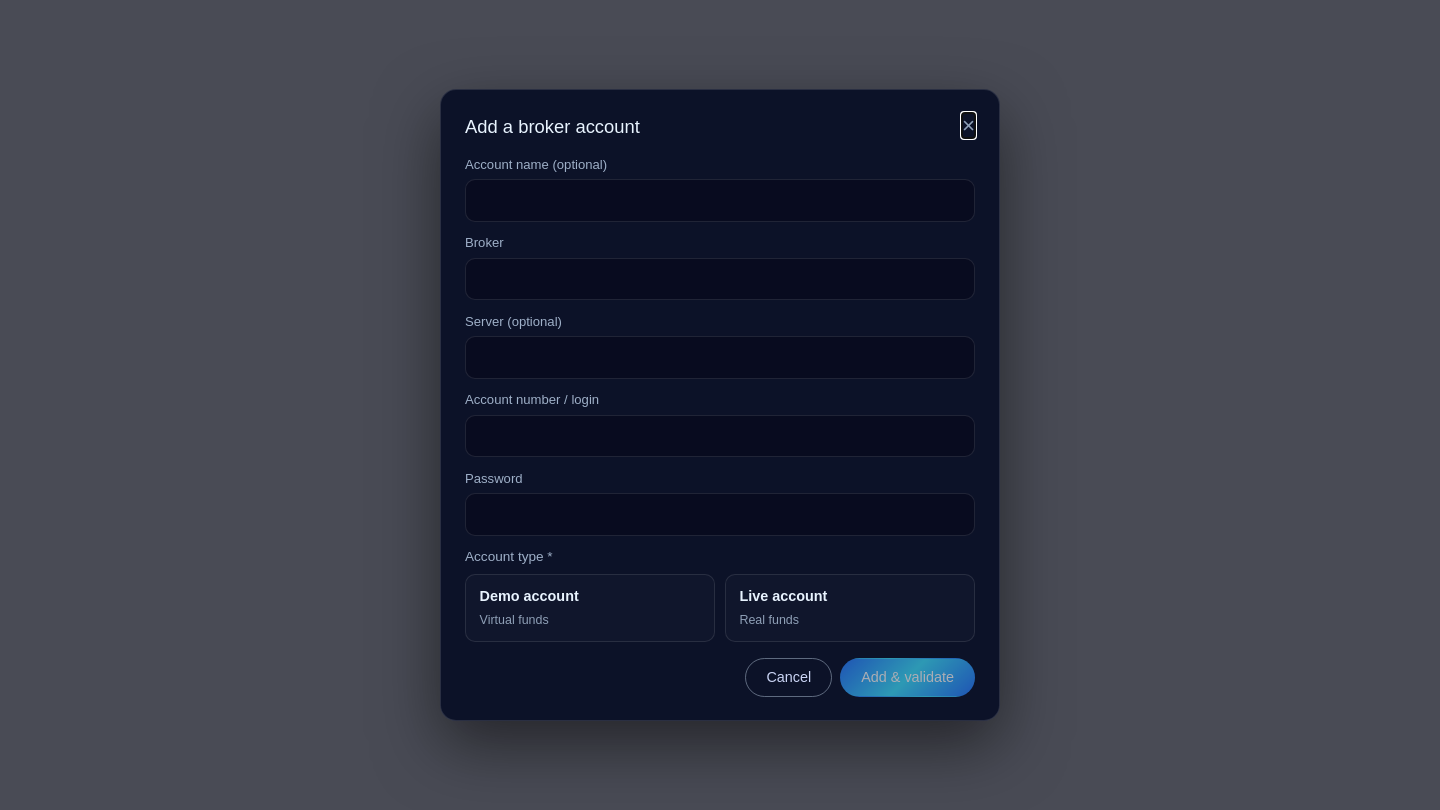
Test: BrokerAccountWizard — legacy (traditional) mode › creates the account then validates it, then shows the result
Type "IS6" into the field labelled "Broker" at (720, 279), box [465, 258, 975, 300]
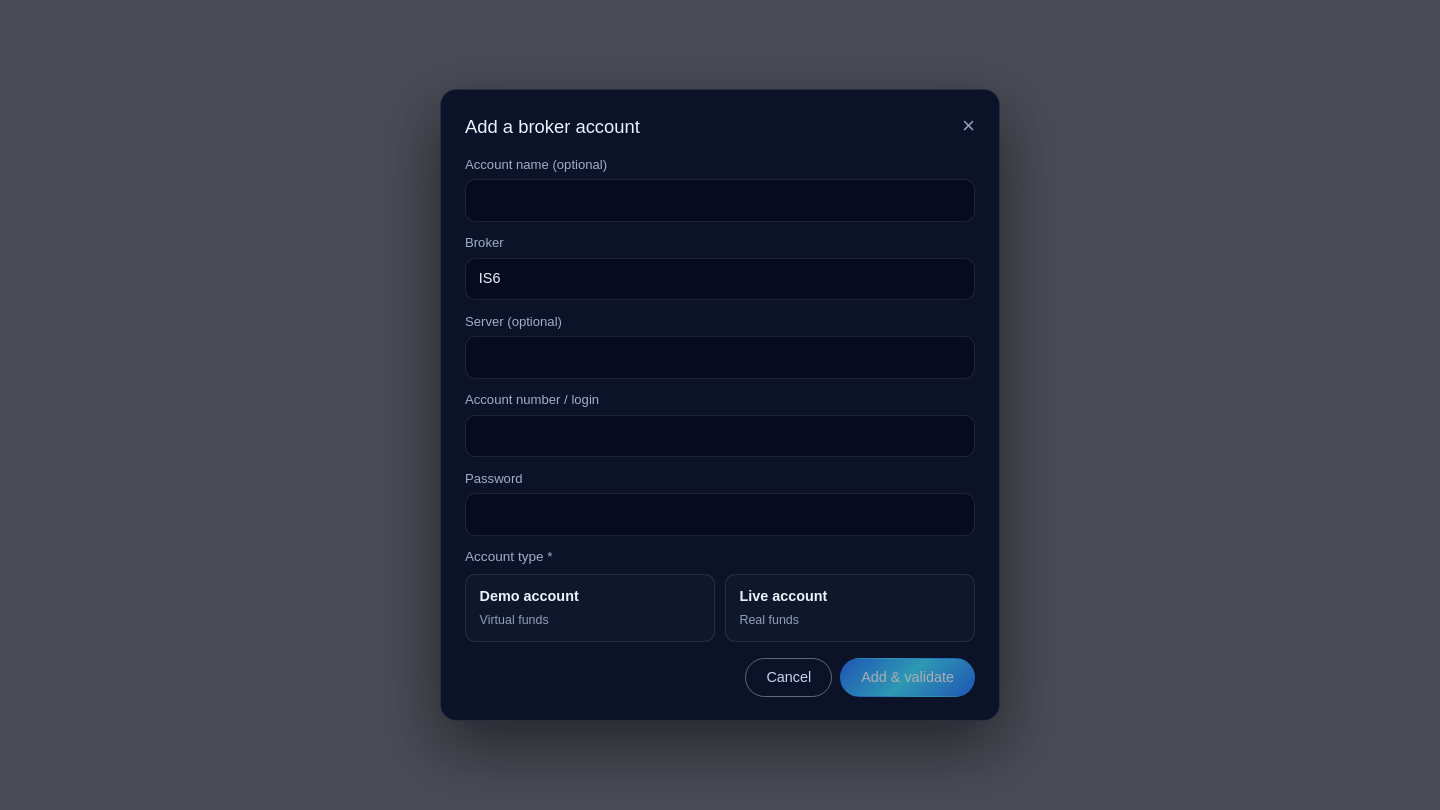
Type "1302575" into the field labelled "Account number / login" at (720, 436), box [465, 415, 975, 457]
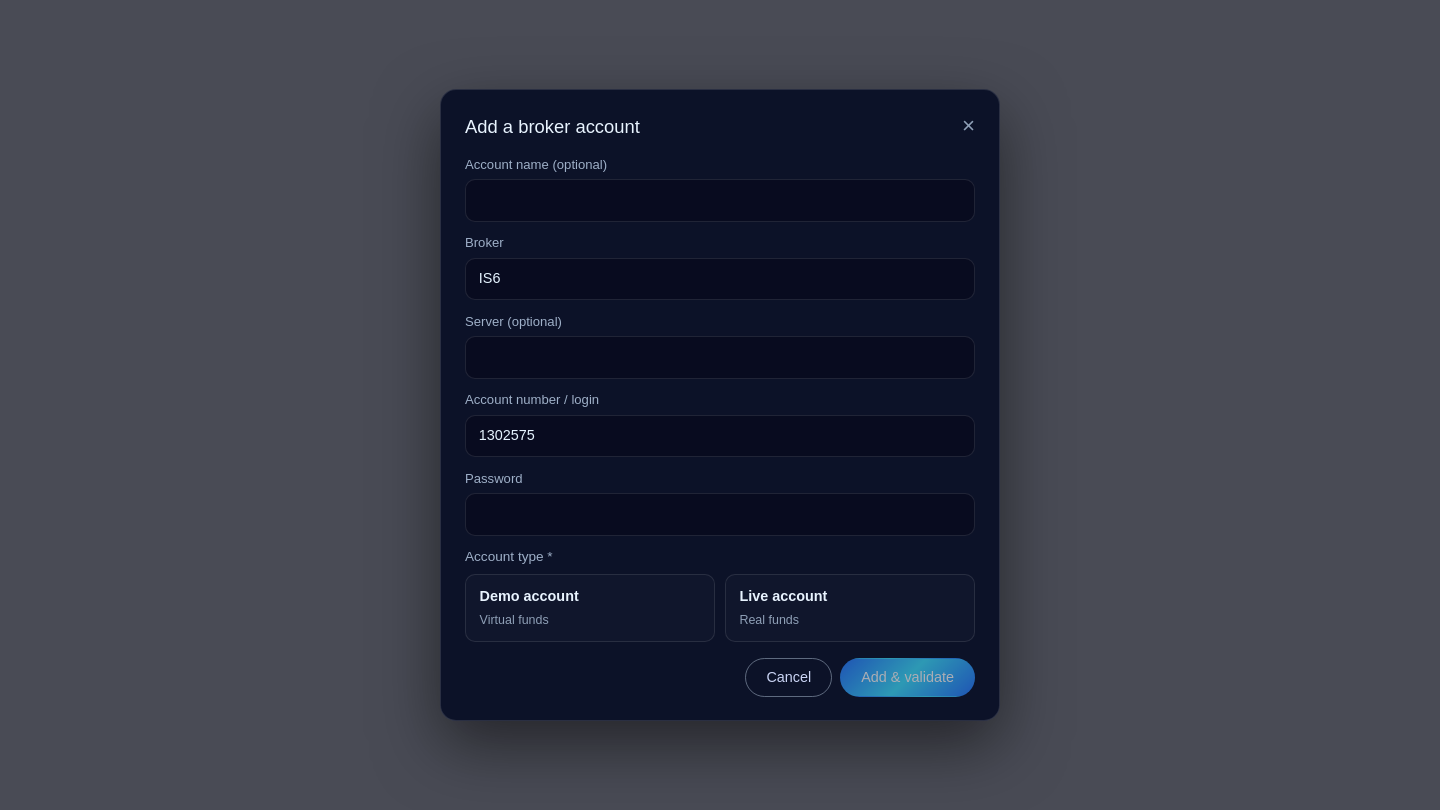
Type "secret" into the password field labelled "Password" at (720, 514), box [465, 493, 975, 536]
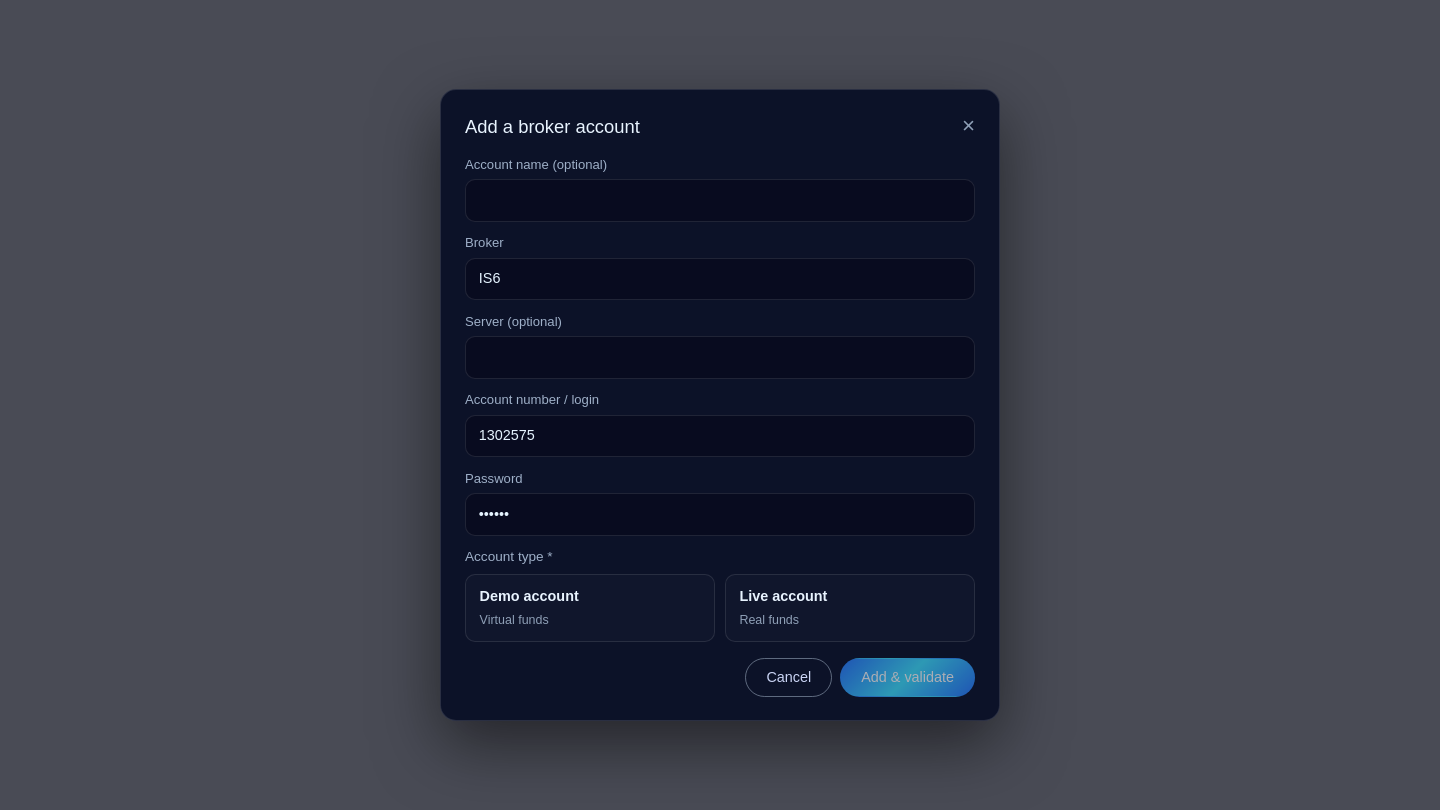
Note: D2: an explicit account type must be chosen (no default) before the account can be created.
Click the radio button labelled "Demo account Virtual funds" at (590, 608), box [465, 574, 715, 642]
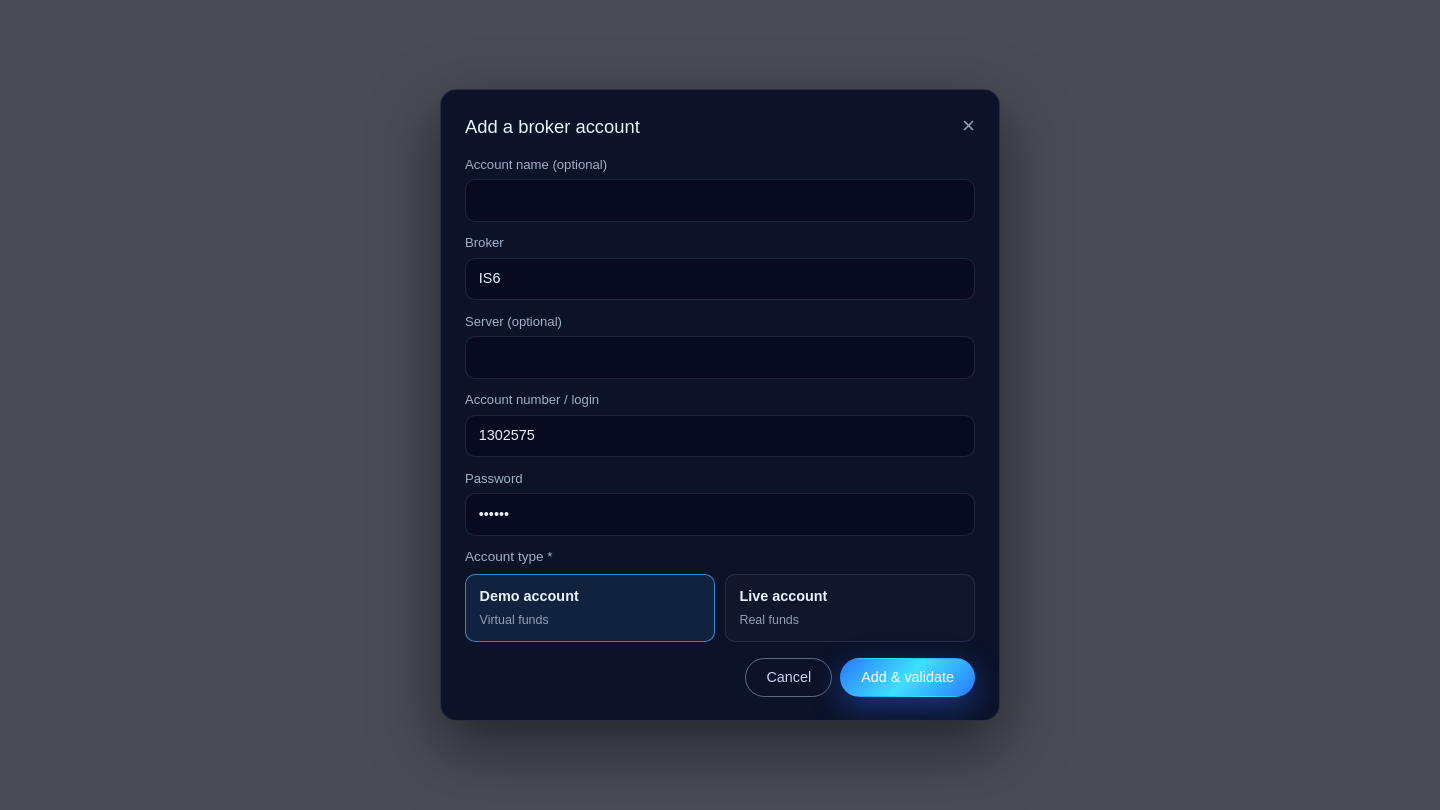
Click the button "Add & validate" at (908, 677), box [840, 658, 975, 697]
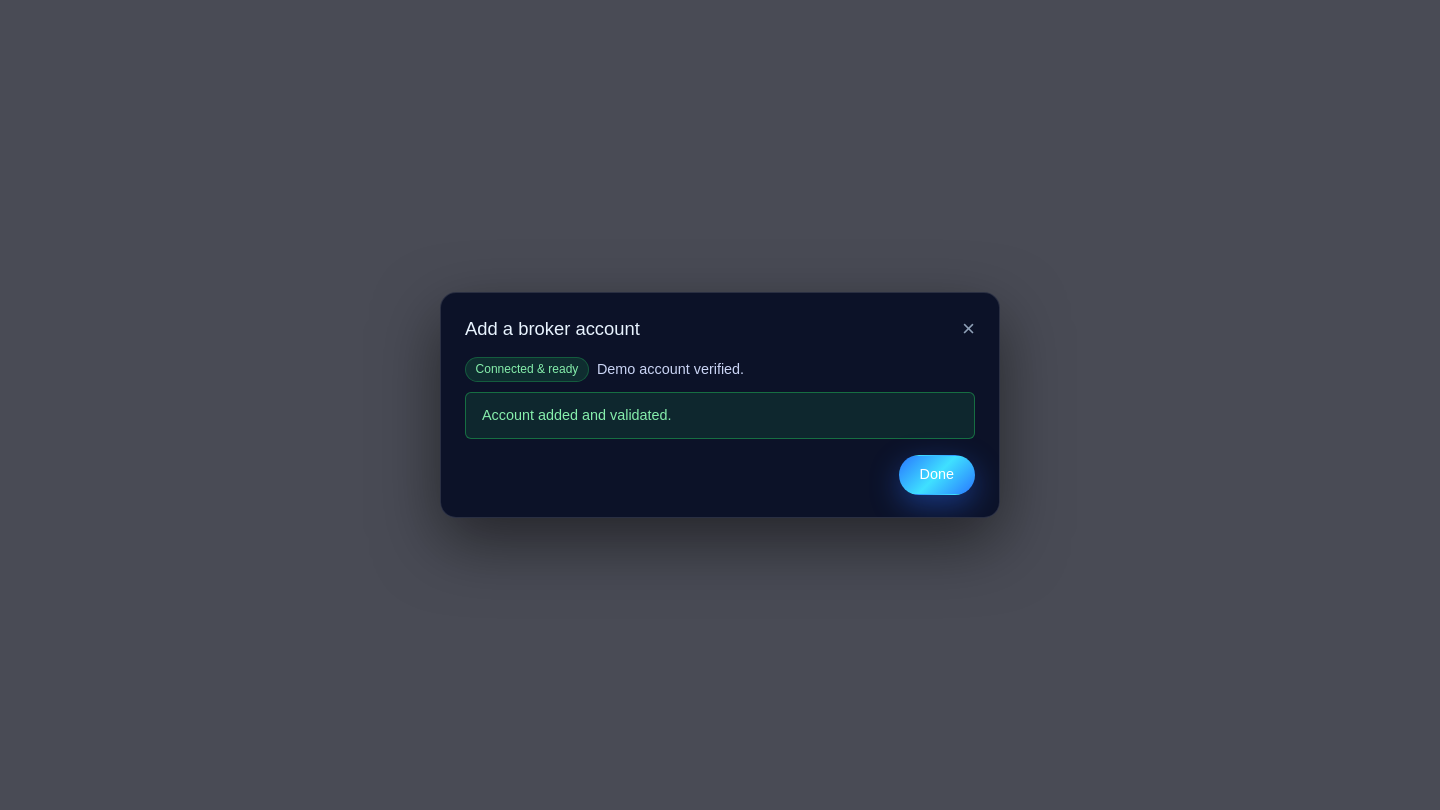
Expected: the text "Account added and validated." is shown, [465, 392, 975, 439]
